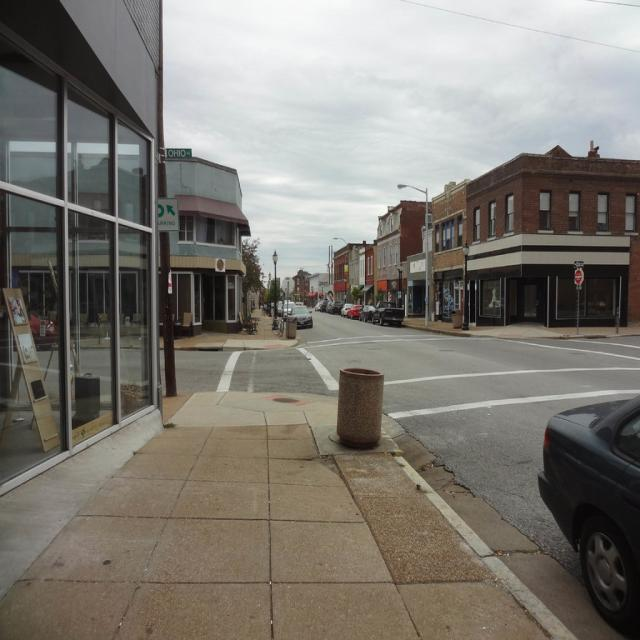other: (535, 390, 636, 622), (268, 296, 376, 331), (9, 296, 57, 346)
